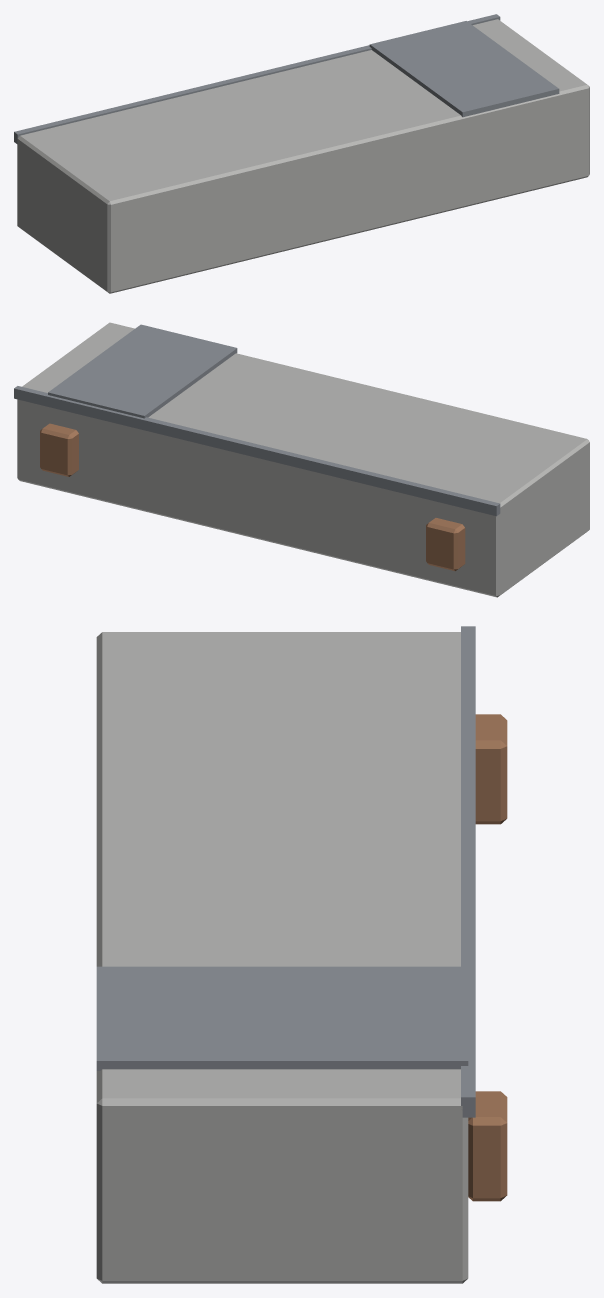
Rendered from mk_dock_6m.glb.
3 renders of one model, top to bottom at view 1: azimuth 30°, elevation 25°; view 2: azimuth 150°, elevation 25°; view 3: azimuth 270°, elevation 25°, orthographic. The views are drawn at different scales.
Visible parts, largest first — view 1: mk_dock_6m_mesh; view 2: mk_dock_6m_mesh; view 3: mk_dock_6m_mesh.
Part boxes in pixels (<box>): mk_dock_6m_mesh: <box>14,14,589,293</box>; mk_dock_6m_mesh: <box>14,322,589,597</box>; mk_dock_6m_mesh: <box>96,626,507,1283</box>.
Bounding box in the file's own units: 6 × 1.15 × 2.21.
